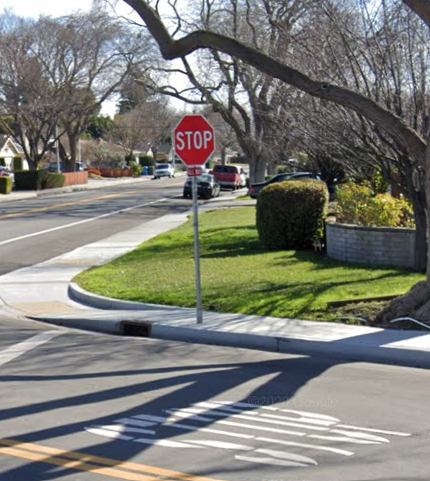stop_sign: (175, 116, 215, 163)
